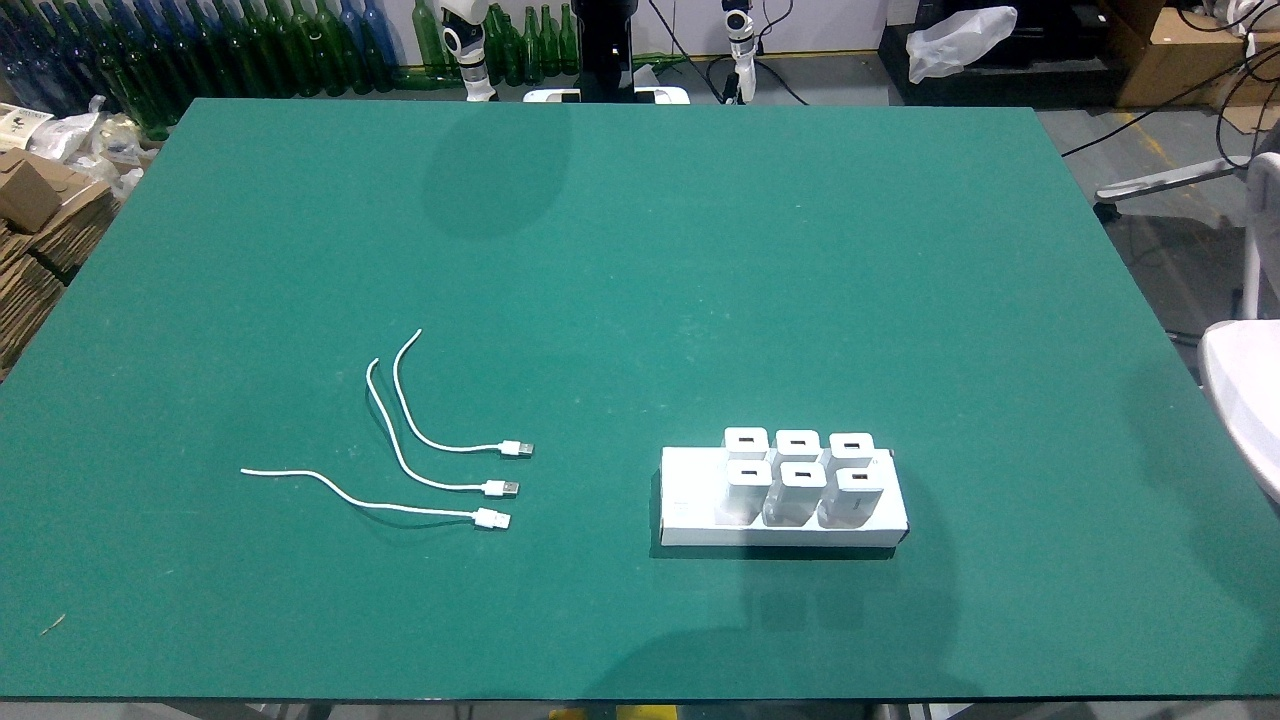usb_a_port: (849, 470, 871, 484), (736, 434, 756, 445), (739, 467, 758, 478), (789, 438, 808, 448), (842, 442, 863, 451), (793, 471, 813, 480)
